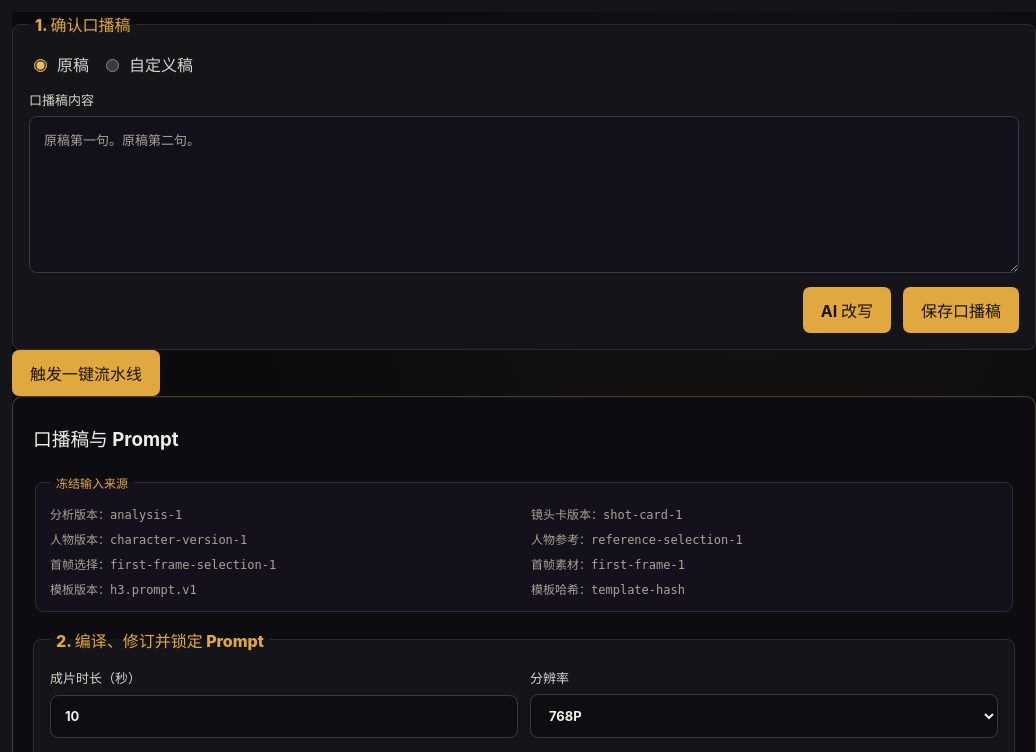
it: GenerationComposer › requires prompt recompilation after generation parameters change
Step 1. Replace the text in the number field labelled "成片时长" with "15" → x=284, y=716, box 50,695 -> 518,738
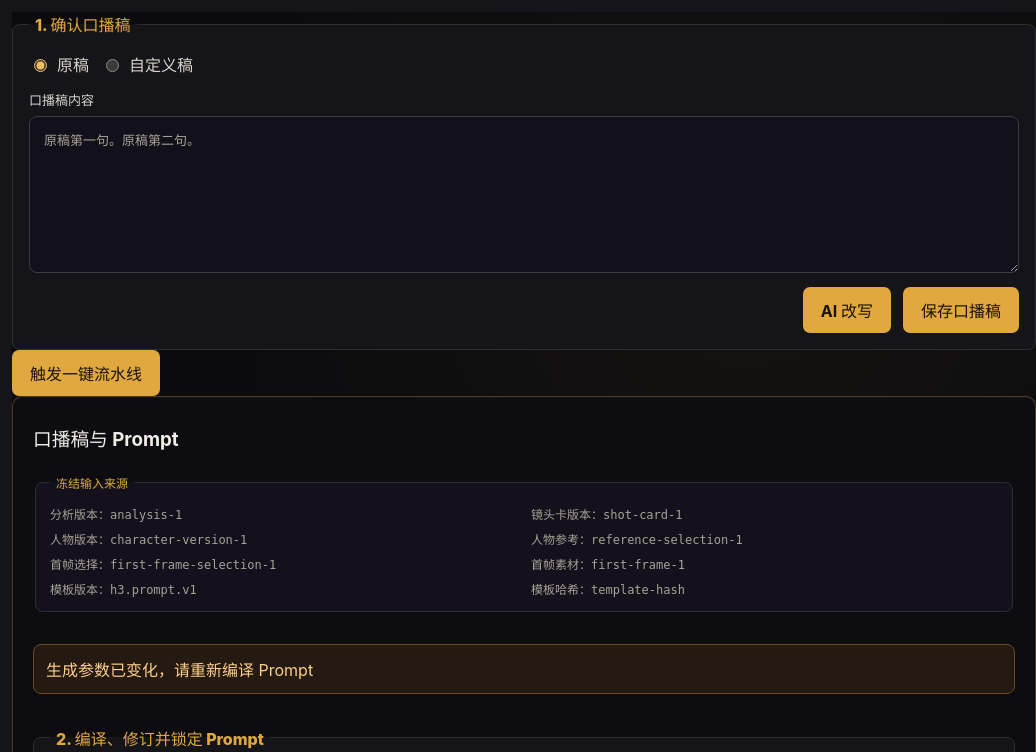
expect the text "生成参数已变化，请重新编译 Prompt" is shown: met, box 33,644 -> 1015,694
